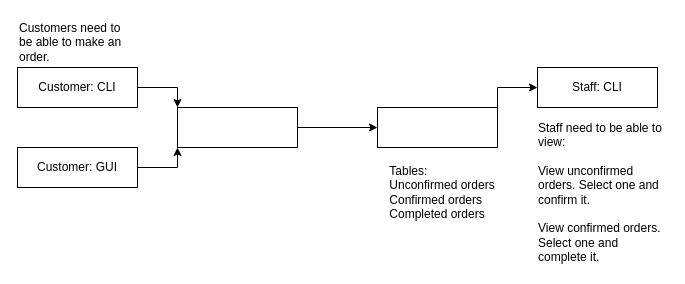
Image size: 685x284. Some labels were removed from this diagram. The centre of each missing label's shape, as x and y in pixels:
Class: Order: (x=237, y=127)
Database: (x=437, y=127)
